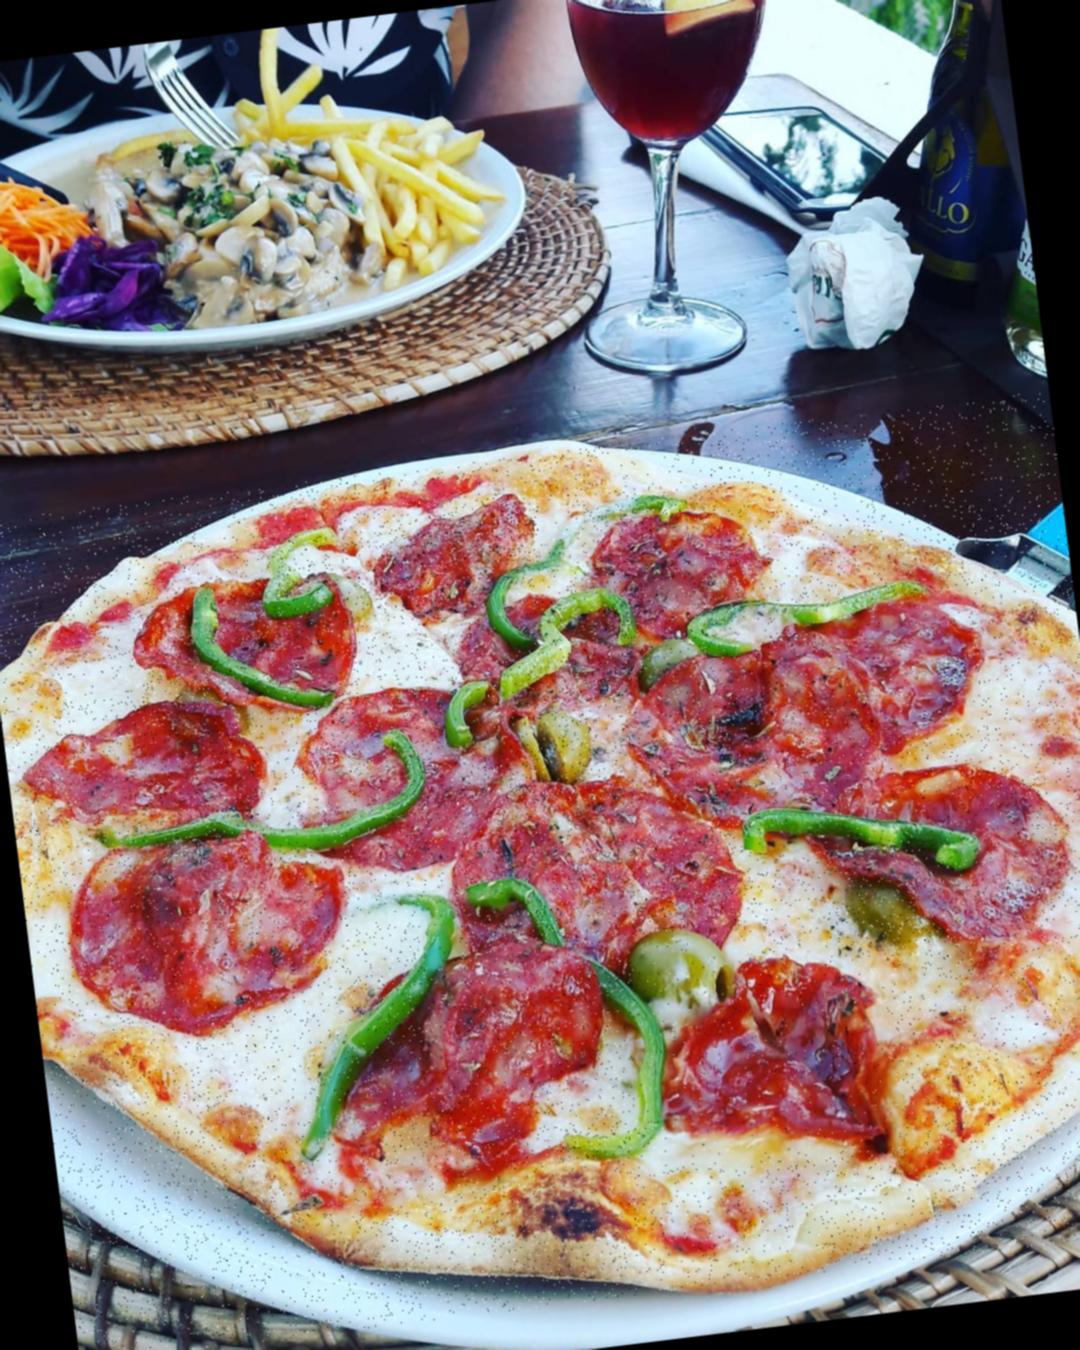Olives: (627, 924, 745, 1015), (850, 871, 950, 953), (518, 708, 604, 784)
Pepperoni: (442, 760, 750, 996), (332, 938, 623, 1165), (63, 819, 357, 1039), (645, 942, 900, 1173), (813, 752, 1080, 951), (618, 640, 884, 833), (287, 676, 533, 868), (12, 691, 267, 846), (129, 566, 361, 723), (782, 591, 982, 747), (595, 504, 766, 644), (367, 493, 534, 622), (457, 588, 635, 710)
Peppers: (285, 1015, 377, 1165), (94, 803, 270, 865), (353, 950, 439, 1070), (739, 792, 881, 861), (224, 644, 339, 717), (878, 803, 987, 882), (624, 989, 679, 1122), (263, 527, 341, 608), (267, 808, 391, 857), (484, 562, 536, 654), (559, 1119, 668, 1162), (384, 725, 434, 817), (418, 888, 465, 983), (441, 680, 495, 748), (583, 492, 694, 523), (464, 875, 550, 915), (188, 585, 224, 670)
Pizza: (0, 390, 1080, 1350)
